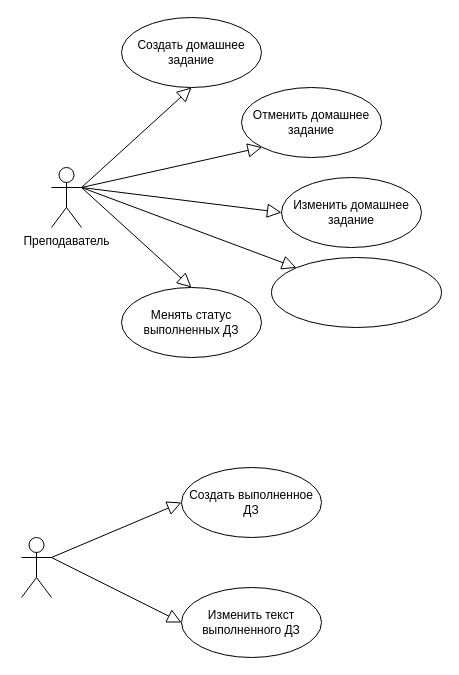
The diagram is 459 pixels wide and 675 high, and some of its shapes have lost their labels. The centre of each missing label's shape, as x and y in pixels:
Добавлять комментарии к выполненным ДЗ: the point at 356,292
Ученик: the point at 36,567
